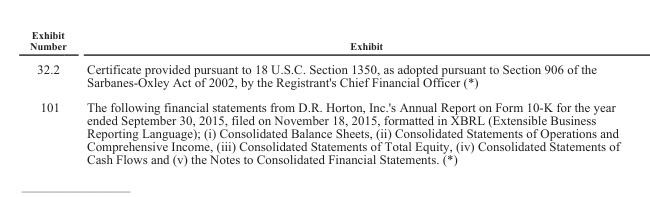table: (28, 29, 619, 165)
table column: (75, 29, 619, 165), (28, 29, 75, 165)
table column header: (28, 29, 619, 56)
table row: (28, 94, 619, 165), (28, 56, 619, 94), (28, 29, 619, 56)
